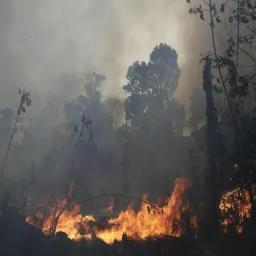Low smoke: (8, 3, 124, 192), (176, 5, 256, 165)
Small fire: (23, 179, 255, 245)
